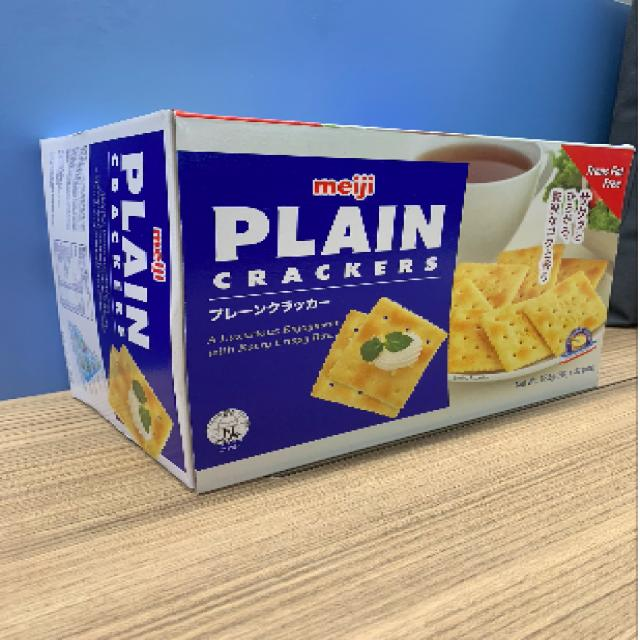object_name: (44, 119, 625, 465)
